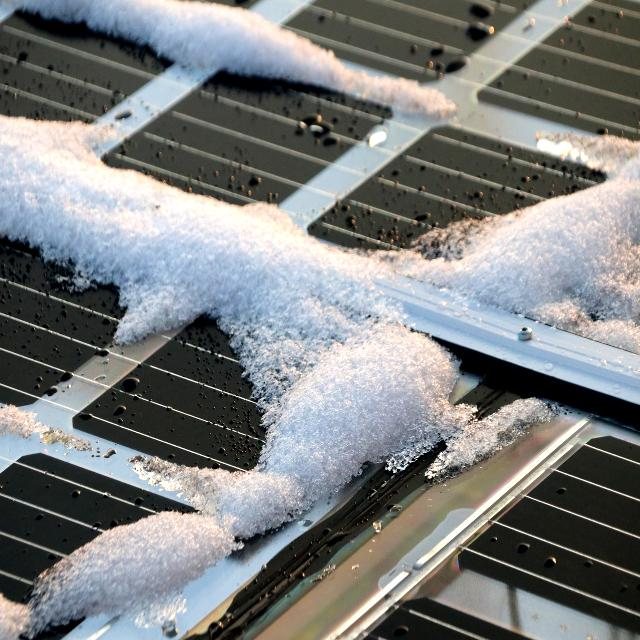panel: (260, 199, 498, 472), (2, 115, 246, 332), (19, 442, 279, 622), (87, 0, 461, 118), (507, 165, 640, 349)
